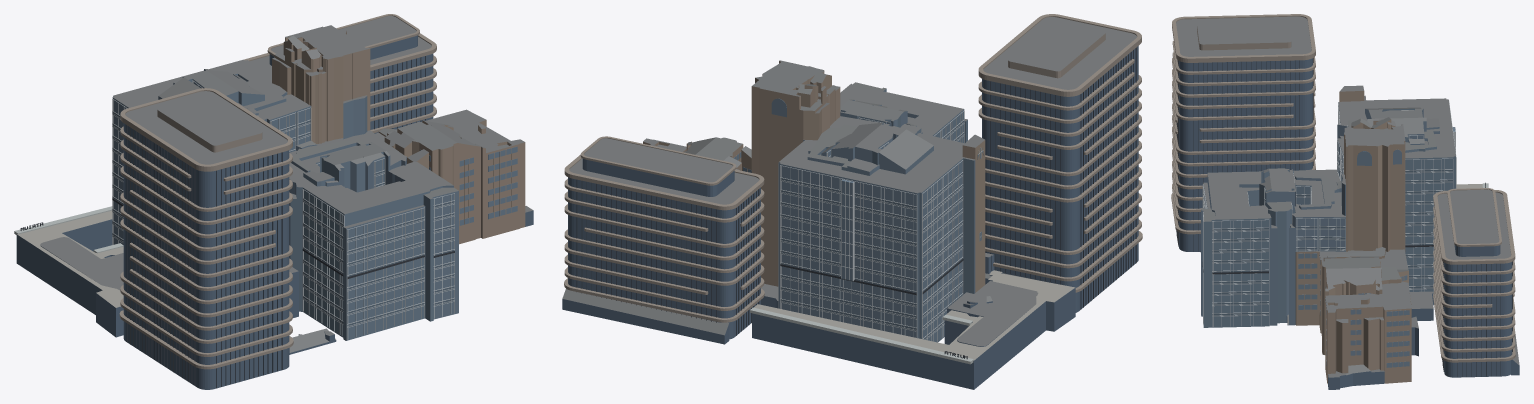
The model's file is atrium-zuidas.glb.
The picture shows the model from 3 angles, left to right: view 1: azimuth 30°, elevation 25°; view 2: azimuth 150°, elevation 25°; view 3: azimuth 270°, elevation 25°; orthographic projection. The views are drawn at different scales.
Parts seen in each view (by area): view 1: atrium-zuidas; view 2: atrium-zuidas; view 3: atrium-zuidas.
Boxes of the visible parts, left/top/right/bottom form: atrium-zuidas: left=14, top=14, right=533, bottom=389; atrium-zuidas: left=562, top=14, right=1142, bottom=389; atrium-zuidas: left=1171, top=14, right=1519, bottom=389.
Bounding box in the file's own units: 133 × 68.1 × 108.
